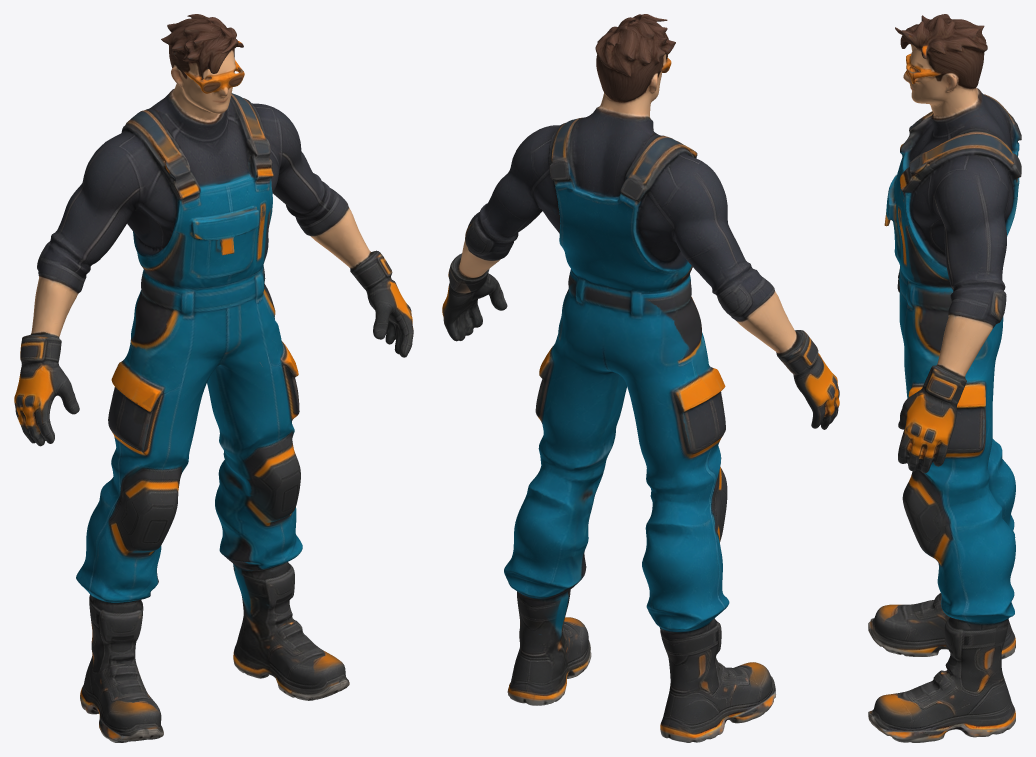
Rendered from powerwasher-meshy-source.glb.
3 renders of one model, left to right at view 1: azimuth 30°, elevation 25°; view 2: azimuth 150°, elevation 25°; view 3: azimuth 270°, elevation 25°, orthographic.
Size of the model in its own units: 1.13 by 1.9 by 0.3926.
Materials: 1 (1 with a texture image).
